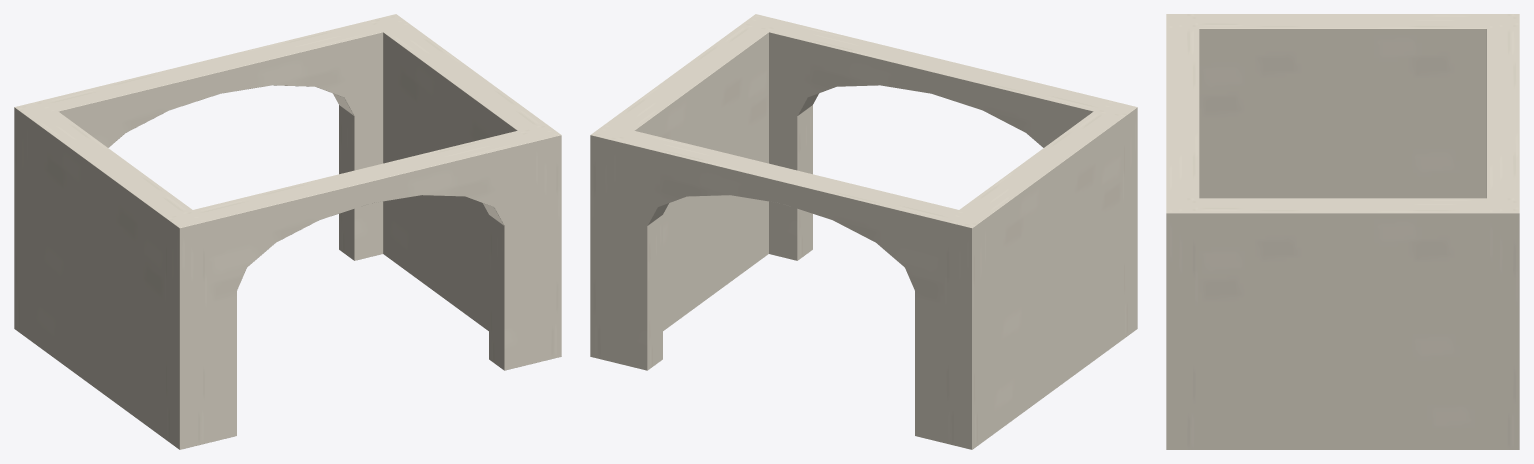
Rendered from town_terrace_base.glb.
The picture shows the model from 3 angles, left to right: view 1: azimuth 30°, elevation 25°; view 2: azimuth 150°, elevation 25°; view 3: azimuth 270°, elevation 25°; orthographic projection. The views are drawn at different scales.
Visible parts, largest first — view 1: town_terrace_base; view 2: town_terrace_base; view 3: town_terrace_base.
Boxes of the visible parts, x1=… form: town_terrace_base: x1=14, y1=14, x2=561, y2=449; town_terrace_base: x1=590, y1=14, x2=1137, y2=449; town_terrace_base: x1=1166, y1=14, x2=1519, y2=449.
Size of the model in its own units: 4 by 2.22 by 3.
1 material, 1 textured.
